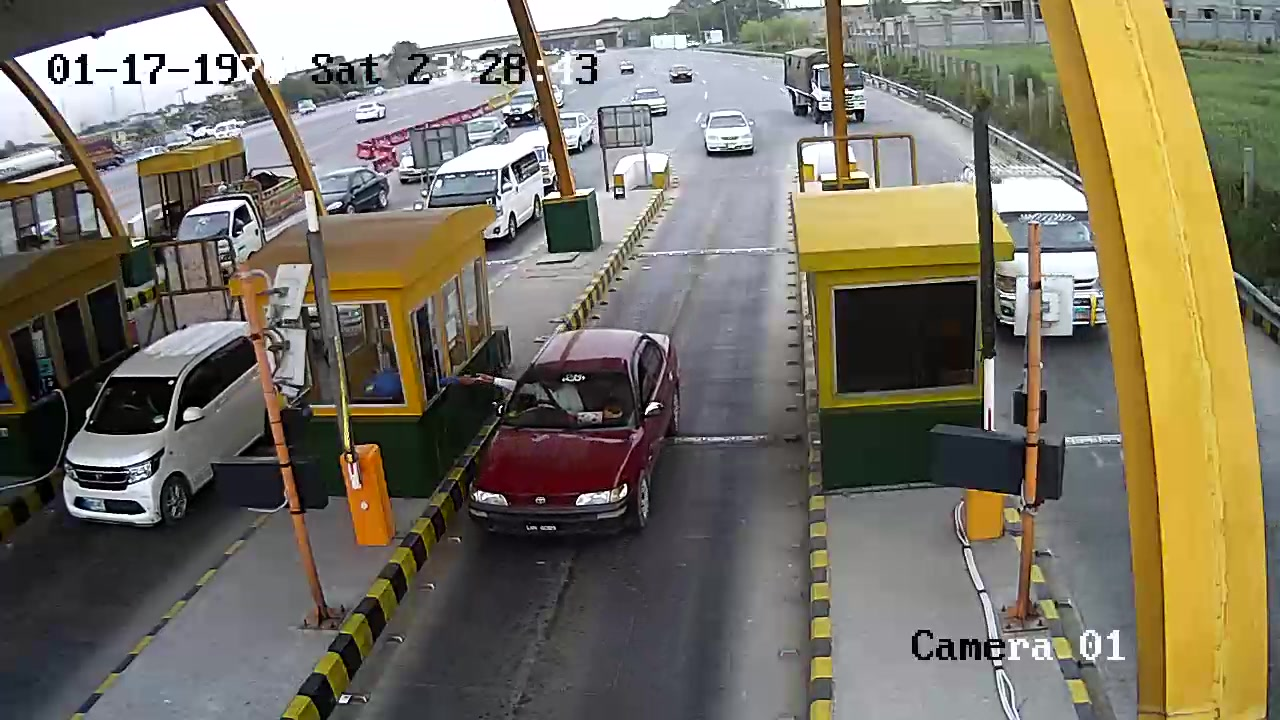F1: (464, 325, 705, 552)
